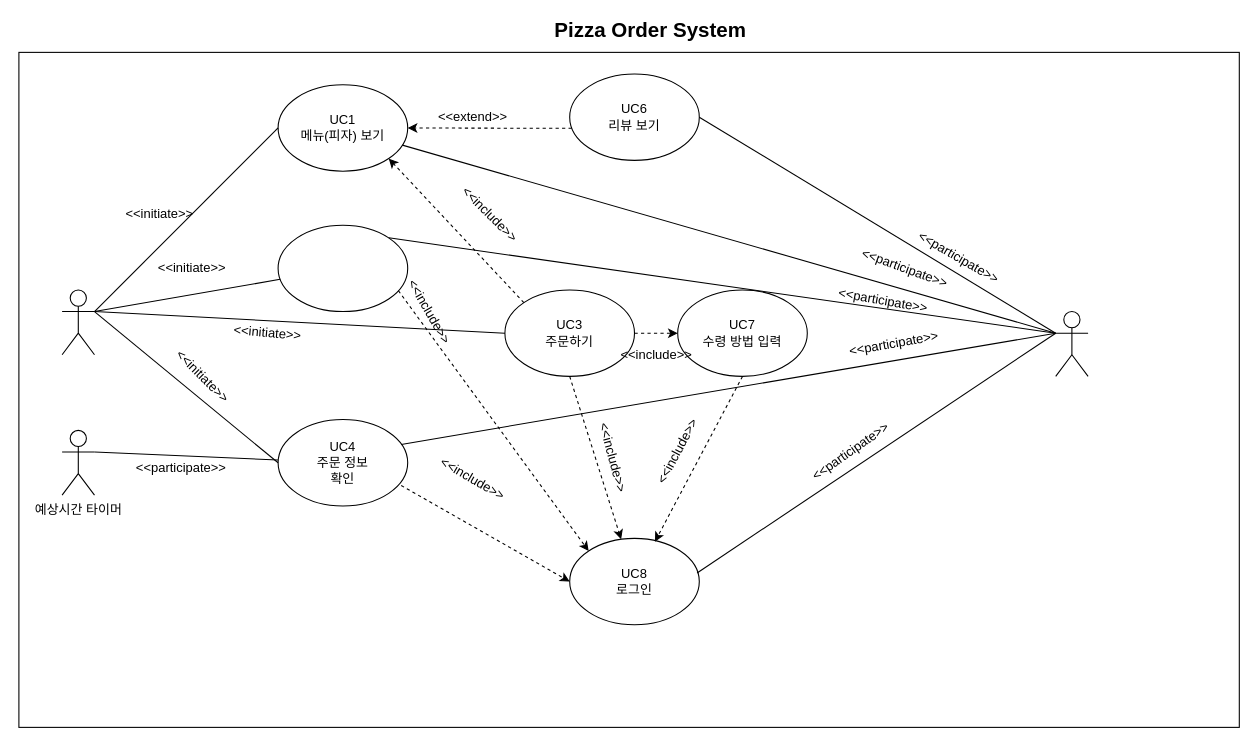
Image size: 1258x746. Some labels were removed from this diagram. Here are the shapes that lost their labels. From the top down, the centre of each, then its label:
At [342,268]: "UC2 장바구니".
At [77,322]: "고객".
At [1071,343]: "데이터베이스".
